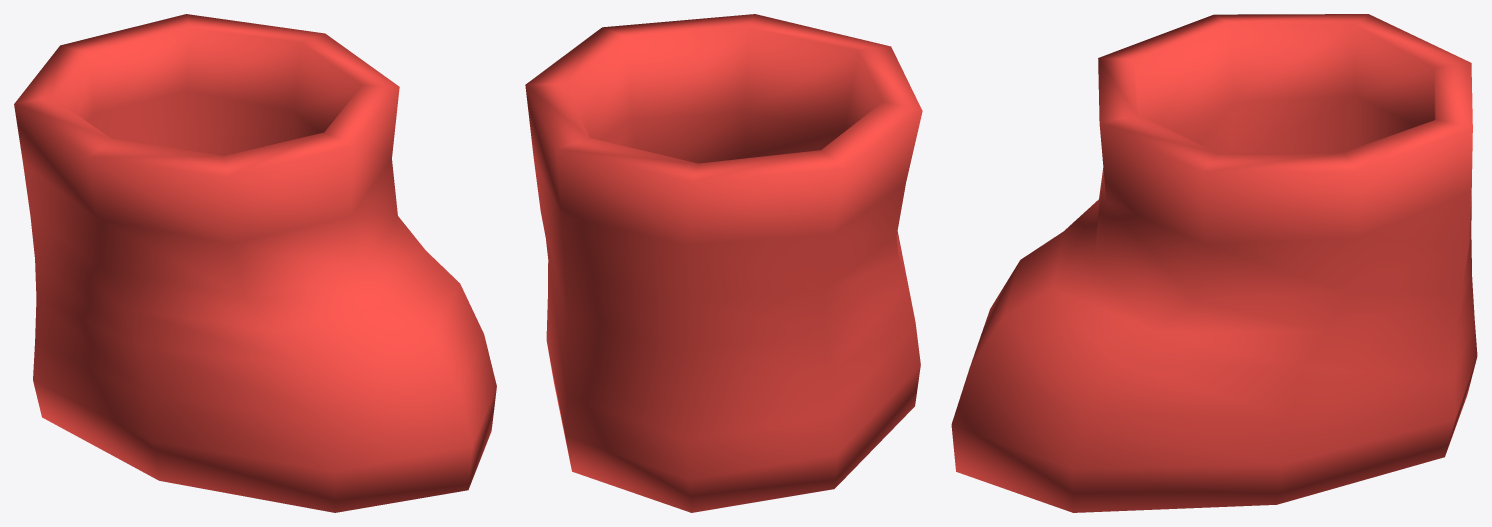
The model's file is redboot_l.fbx.
3 renders of one model, left to right at view 1: azimuth 30°, elevation 25°; view 2: azimuth 150°, elevation 25°; view 3: azimuth 270°, elevation 25°, orthographic. The views are drawn at different scales.
Visible parts, largest first — view 1: redboot_l; view 2: redboot_l; view 3: redboot_l.
Part boxes in pixels (<box>): redboot_l: <box>14,14,496,512</box>; redboot_l: <box>525,14,922,512</box>; redboot_l: <box>951,14,1477,512</box>.
Bounding box in the file's own units: 10.44 × 9.36 × 13.13.
